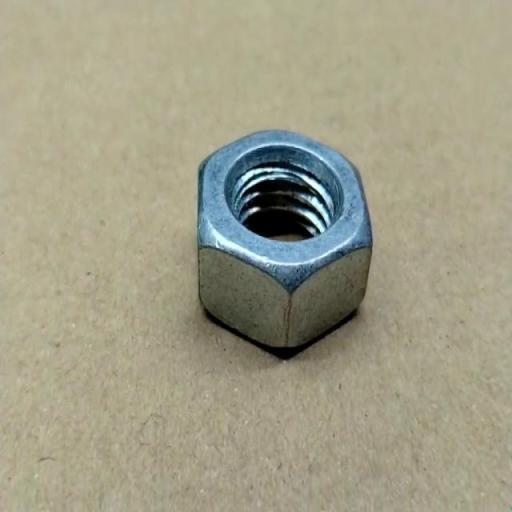Nut: (197, 128, 373, 353)
